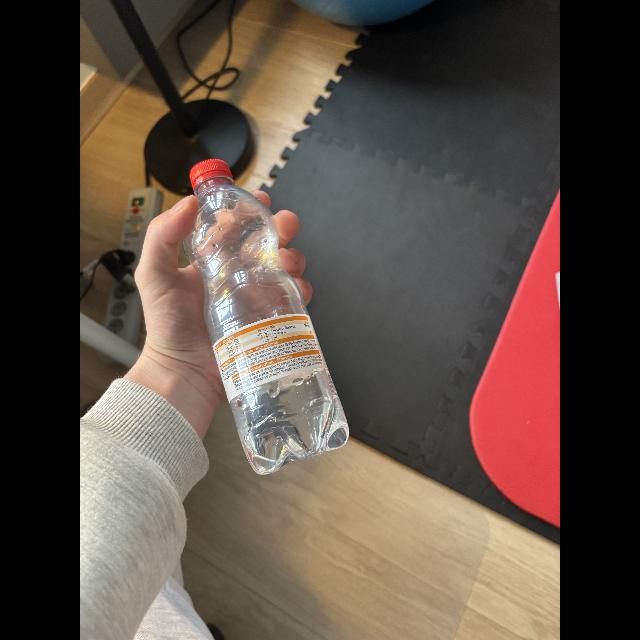Plastic: (178, 156, 356, 474)
